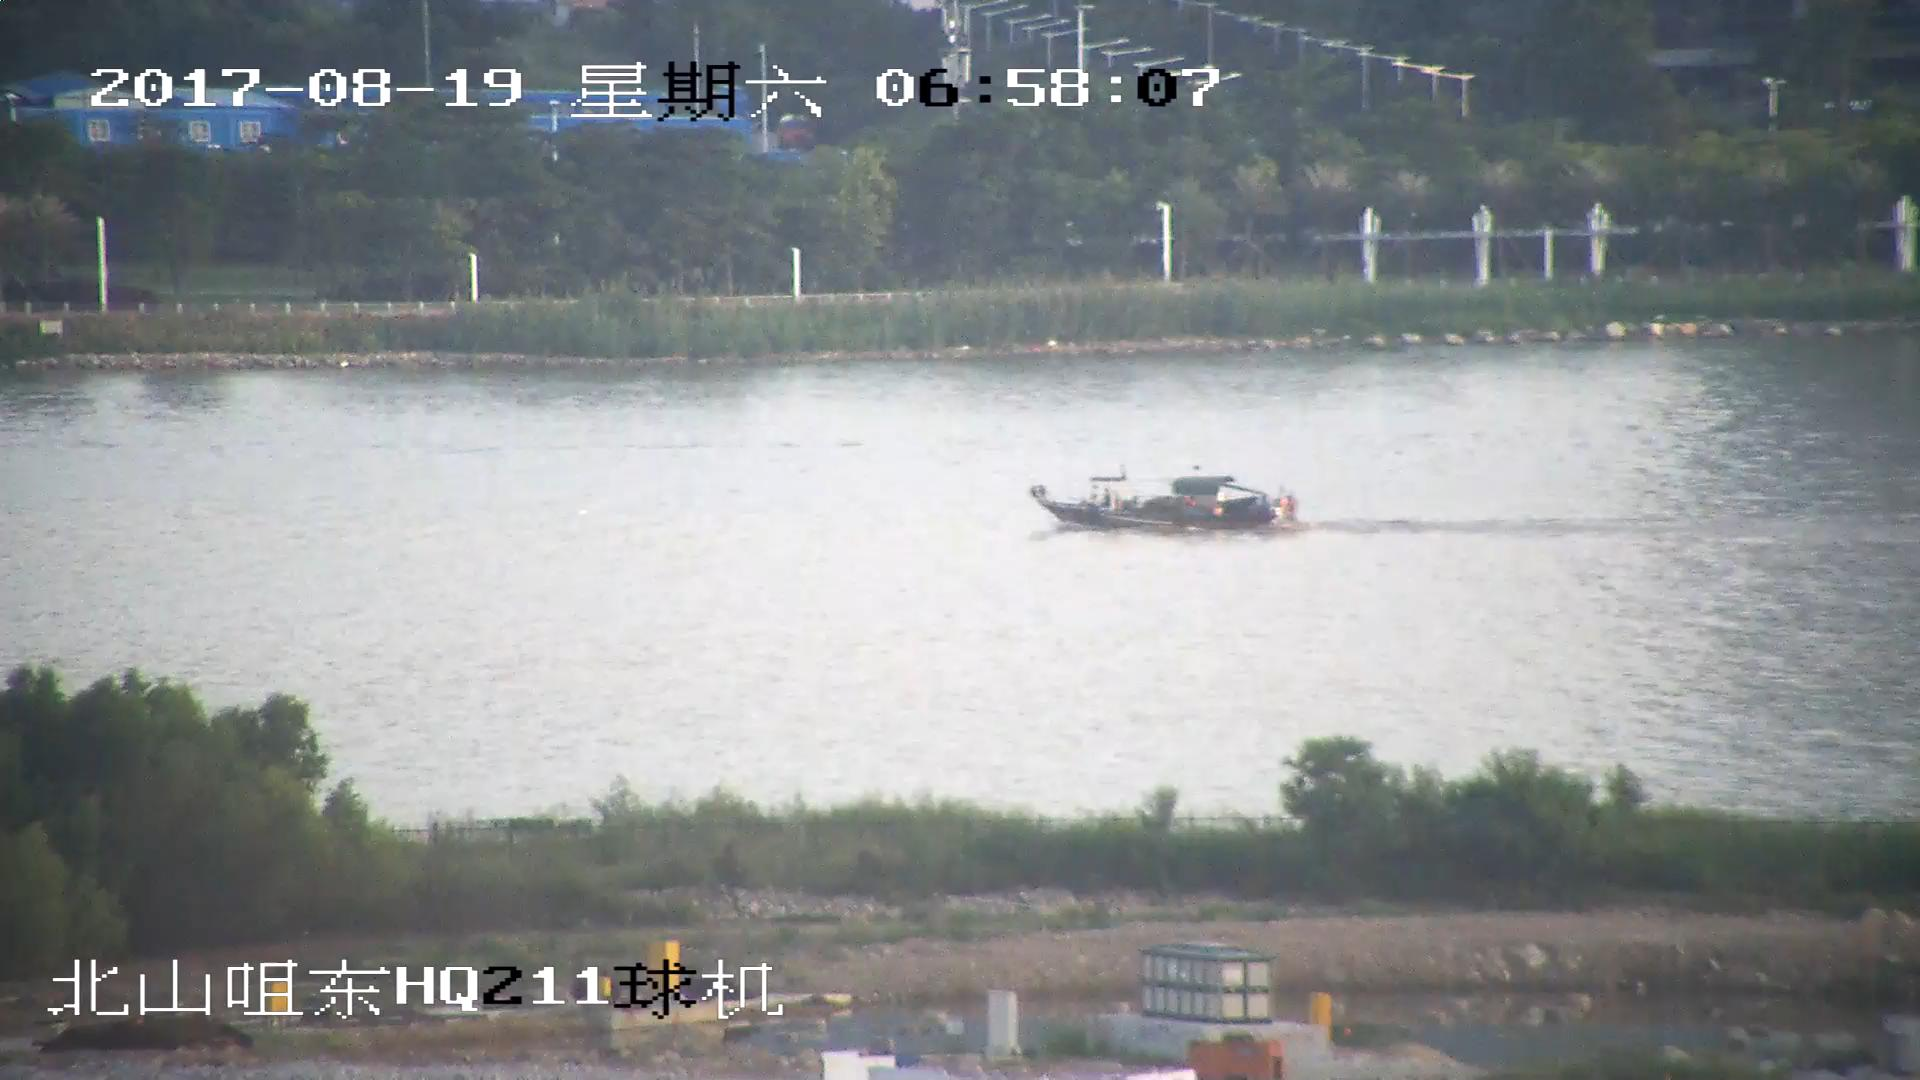fishing boat: (1027, 471, 1290, 536)
